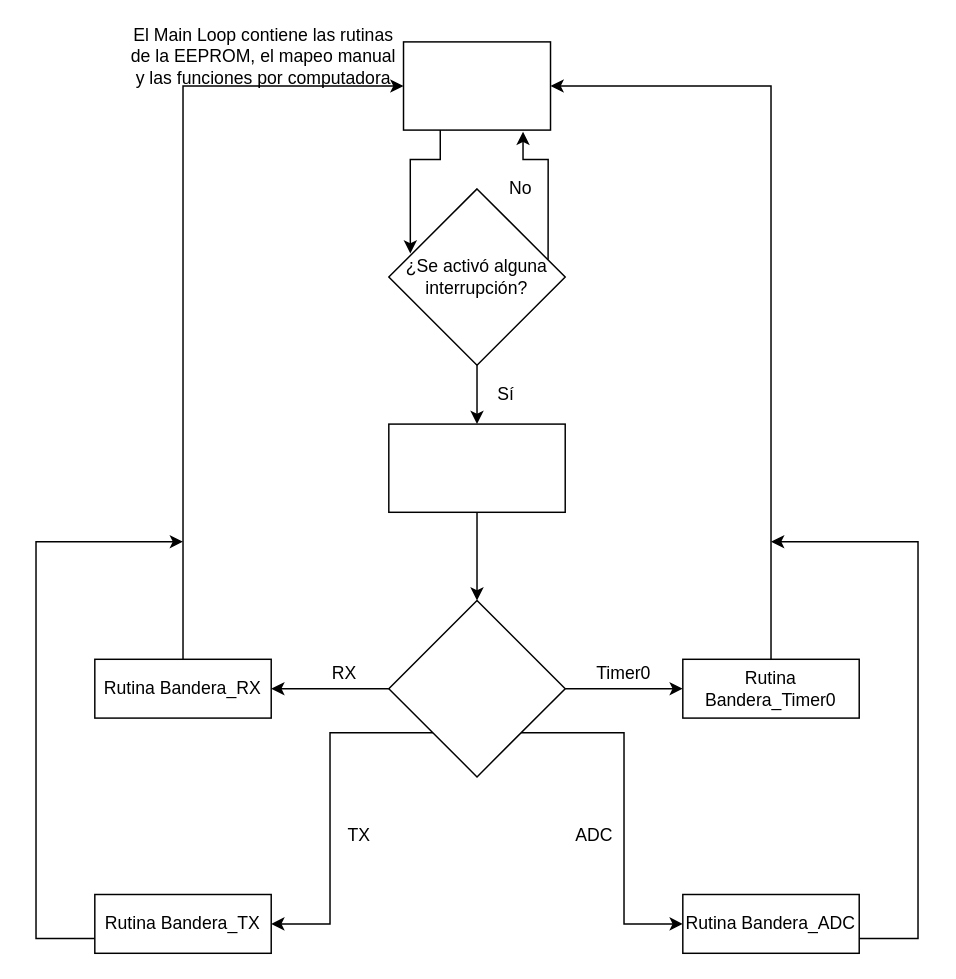
Some shapes in this 956 by 979 pixel diagram are drawn without their labels. The shapes that lost their labels are listed below. From the top down, each one's centre as x and y in pixels, then its label:
At (x=476, y=85): "Main Loop".
At (x=476, y=467): "Desactivar las interrupciones".
At (x=476, y=688): "¿Qué interrupción fue?".
